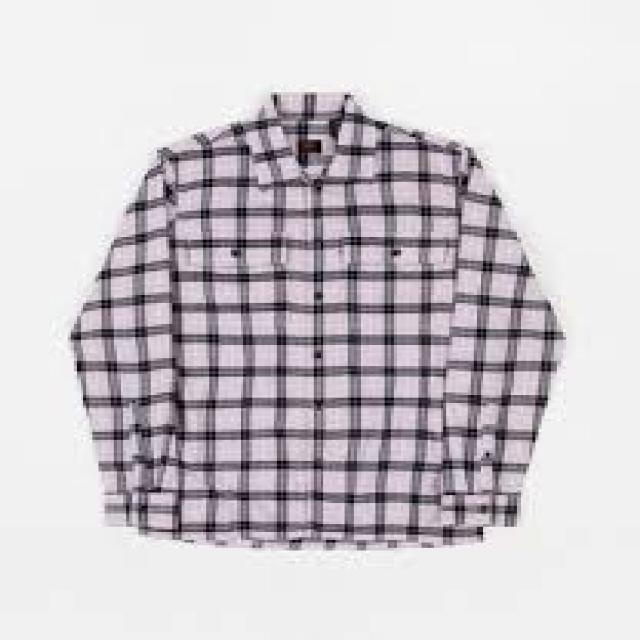plaid: (74, 79, 582, 557)
